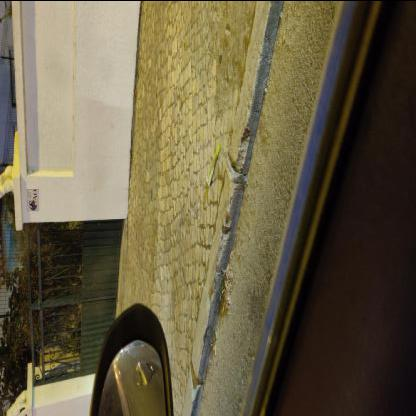Carton: (207, 140, 220, 186)
Cigarette: (282, 30, 285, 42), (215, 344, 217, 354), (222, 305, 224, 313), (215, 330, 217, 338)
